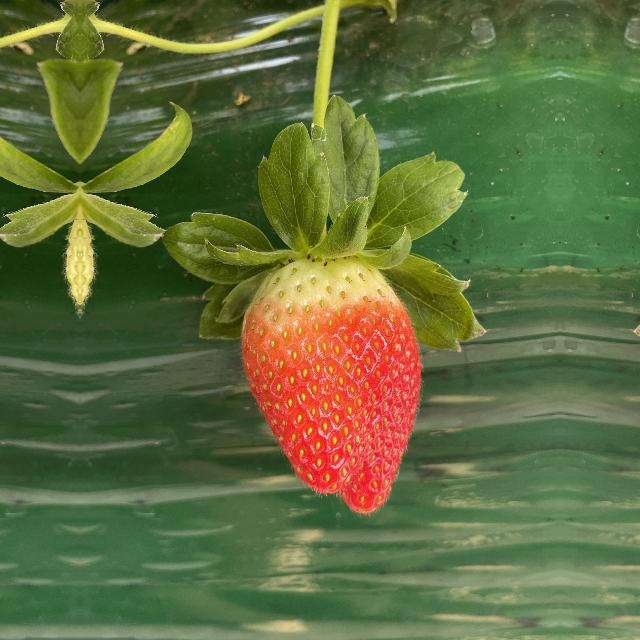Health_100: (230, 234, 430, 516)
